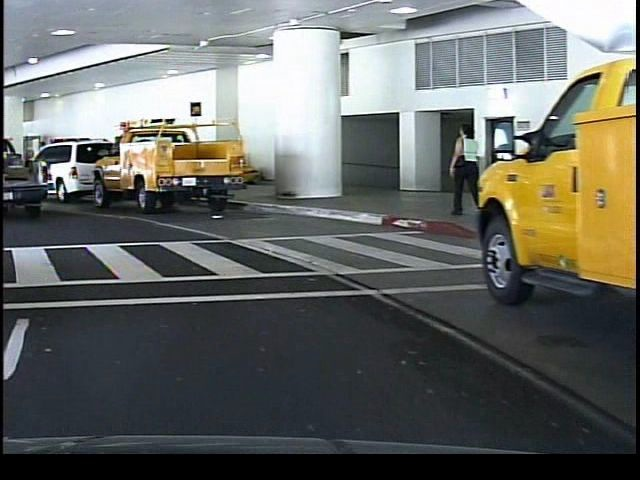person: (442, 117, 477, 221)
